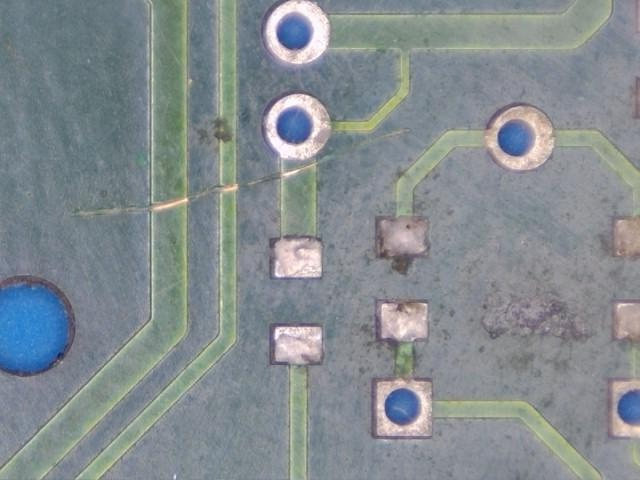pcb_defect: (72, 156, 330, 216), (356, 129, 411, 146)
